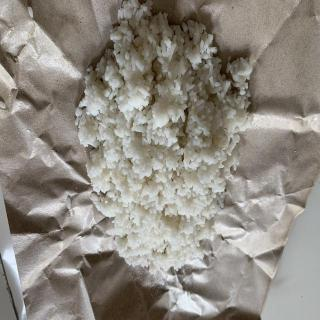Nasi: (79, 1, 248, 275)
